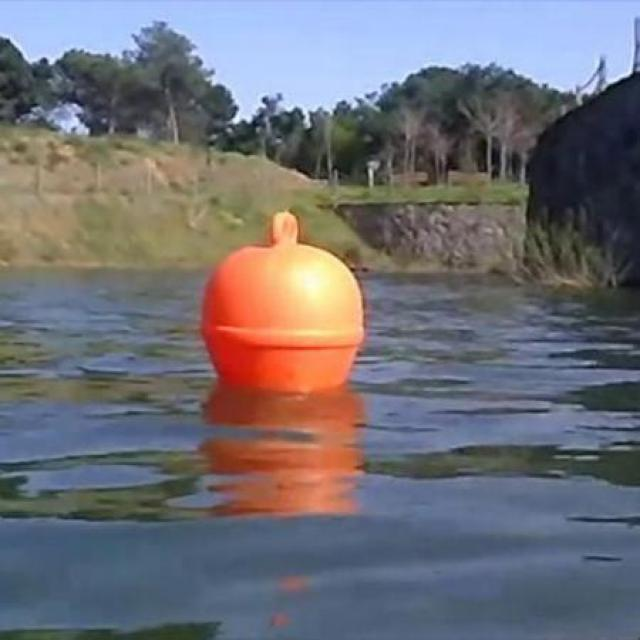buoy: (202, 214, 365, 392)
